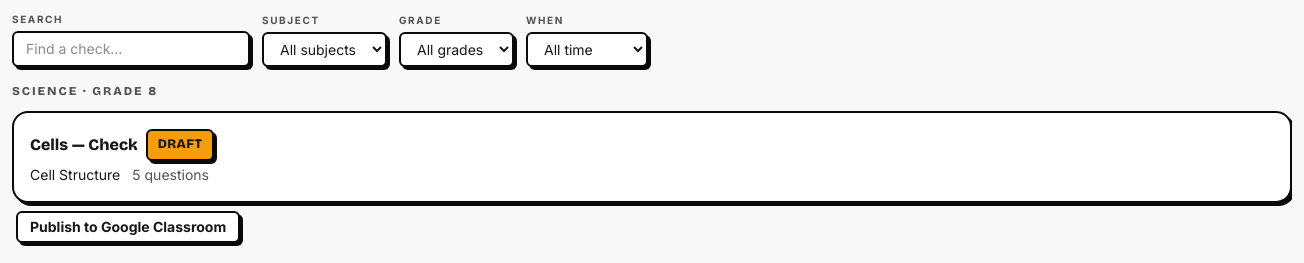
Test: QuizLibrary — Publish to Classroom (gated on googleCourseId) › shows a quiet success state after publishing
Click the button "Publish to Google Classroom" at (128, 226), box [16,210,240,242]
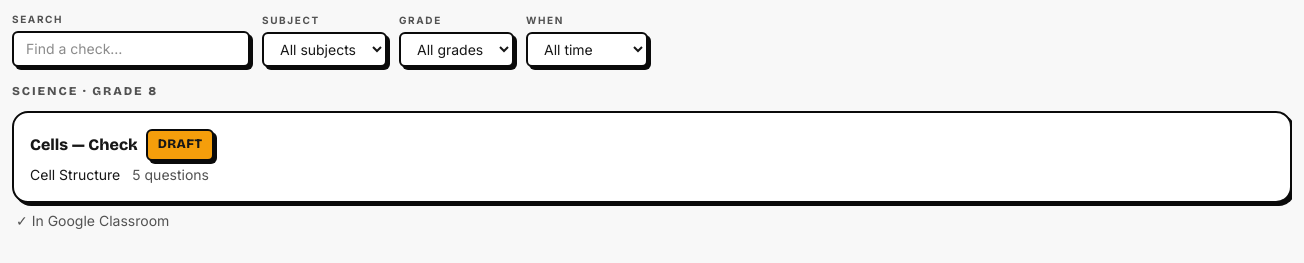
expect the text "✓ In Google Classroom" is shown: met, box [16,210,169,230]
